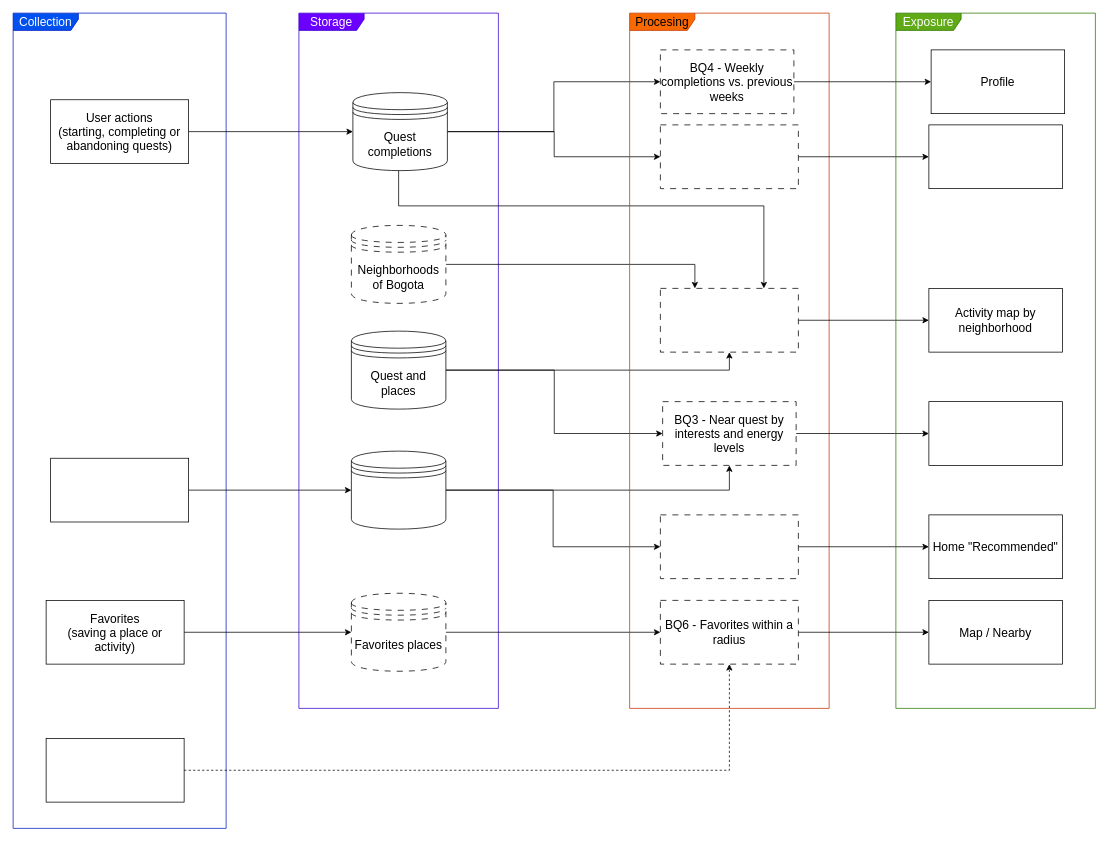
This 1109x842 diagram has some shape labels left out. The shapes that lost their labels are listed below. From the top down, each one's box as (x1, y1, x2, y2) in pixels, then its label:
(660, 124, 798, 189): BQ8 - Last step completed in abandoned quests
(928, 124, 1062, 189): abandonment funnel
(660, 288, 798, 352): BQ11 - Quests completed by neighborhood
(928, 401, 1062, 465): Home / Discovery
(50, 458, 189, 522): Onboarding Interests and energy levels
(351, 450, 446, 529): Users
(660, 514, 798, 579): BQ5 - Next quest based on yhe user history
(45, 738, 184, 802): GPS Location
